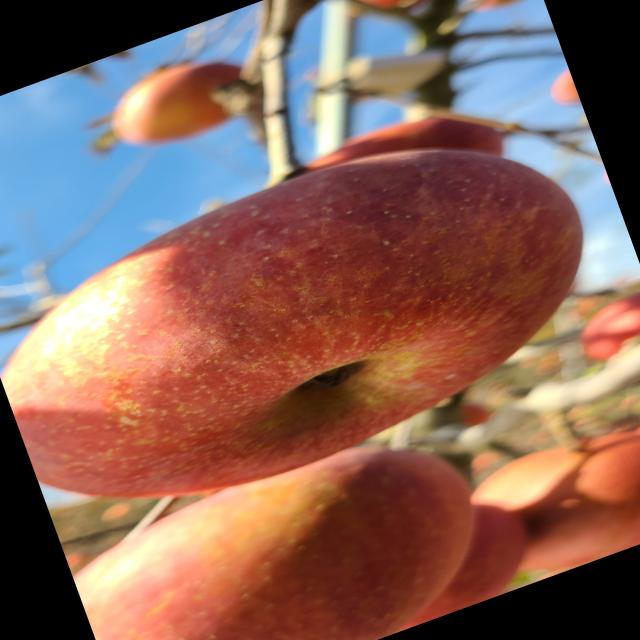fresh: (1, 62, 640, 558)
